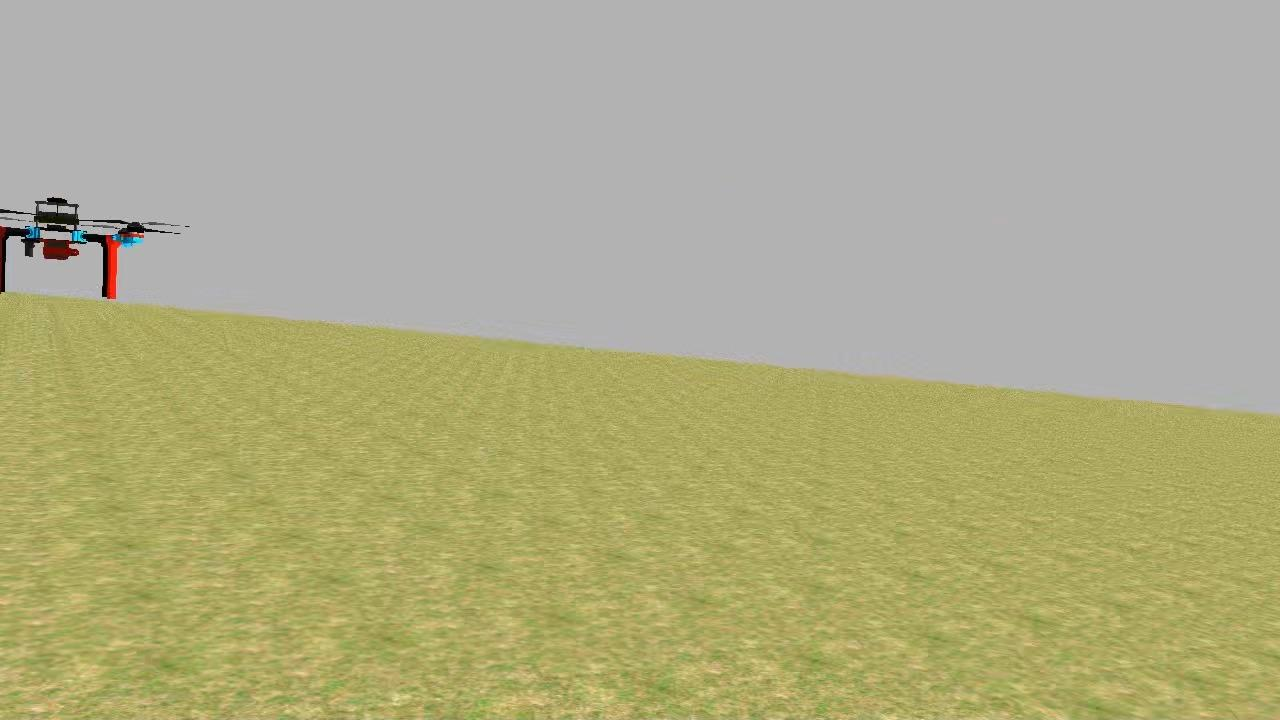UAV: (0, 184, 157, 317)
